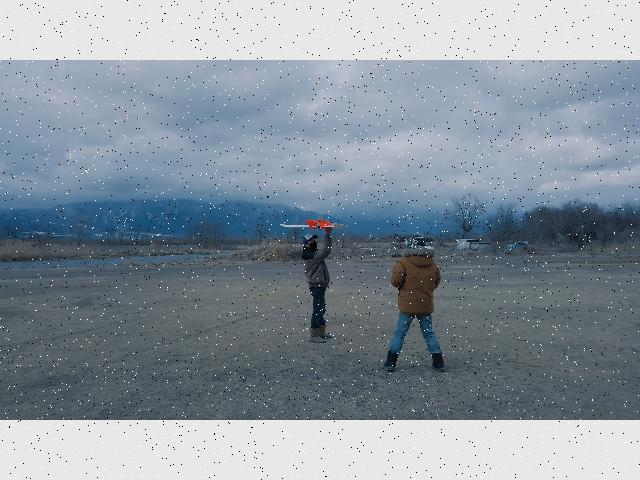Anti-Drone: (278, 217, 348, 231)
